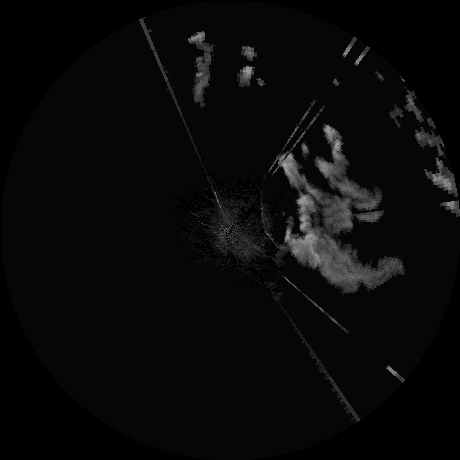frontgust: (260, 201, 278, 246)
